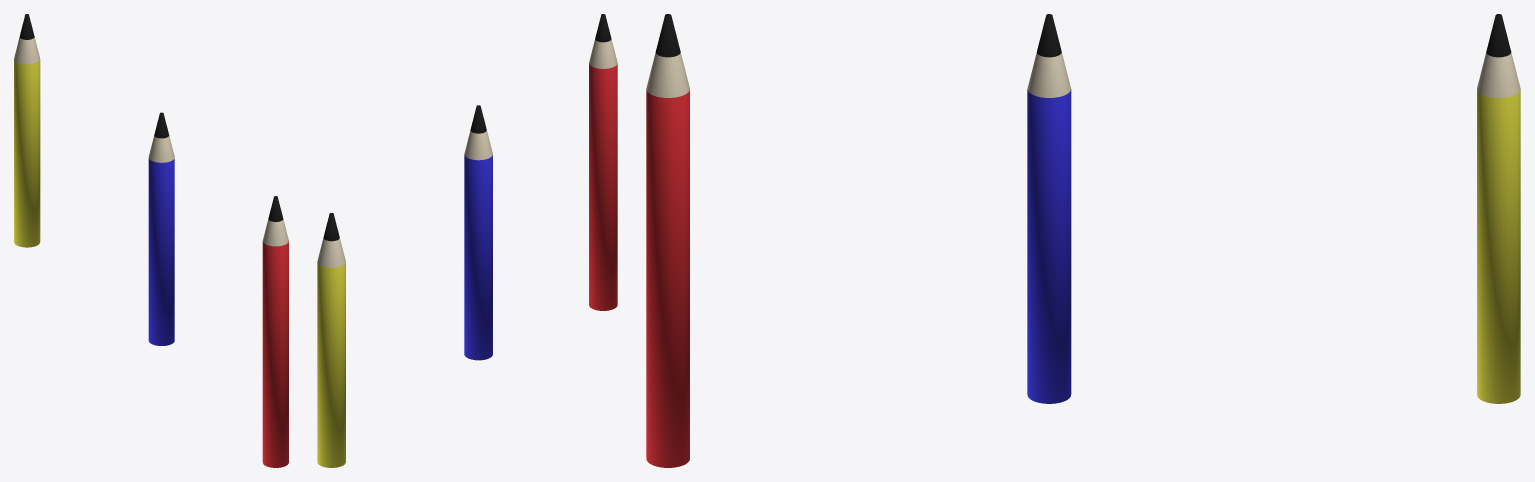
Rendered from stift fertig - Kopie.fbx.
3 renders of one model, left to right at view 1: azimuth 30°, elevation 25°; view 2: azimuth 150°, elevation 25°; view 3: azimuth 270°, elevation 25°, orthographic. The views are drawn at different scales.
Visible parts, largest first — view 1: Cylinder.002, Cylinder.001, Cylinder; view 2: Cylinder.002, Cylinder, Cylinder.001; view 3: Cylinder.002, Cylinder, Cylinder.001.
Part boxes in pixels (bbox=[...]): Cylinder.002: bbox=[262, 196, 288, 467]; Cylinder.001: bbox=[14, 14, 40, 247]; Cylinder: bbox=[148, 112, 174, 345]; Cylinder.002: bbox=[589, 14, 617, 310]; Cylinder: bbox=[464, 105, 492, 360]; Cylinder.001: bbox=[317, 213, 345, 467]; Cylinder.002: bbox=[646, 14, 689, 467]; Cylinder: bbox=[1027, 14, 1071, 403]; Cylinder.001: bbox=[1477, 14, 1520, 403].
Size of the model in its own units: 200 by 2238 by 4000.
